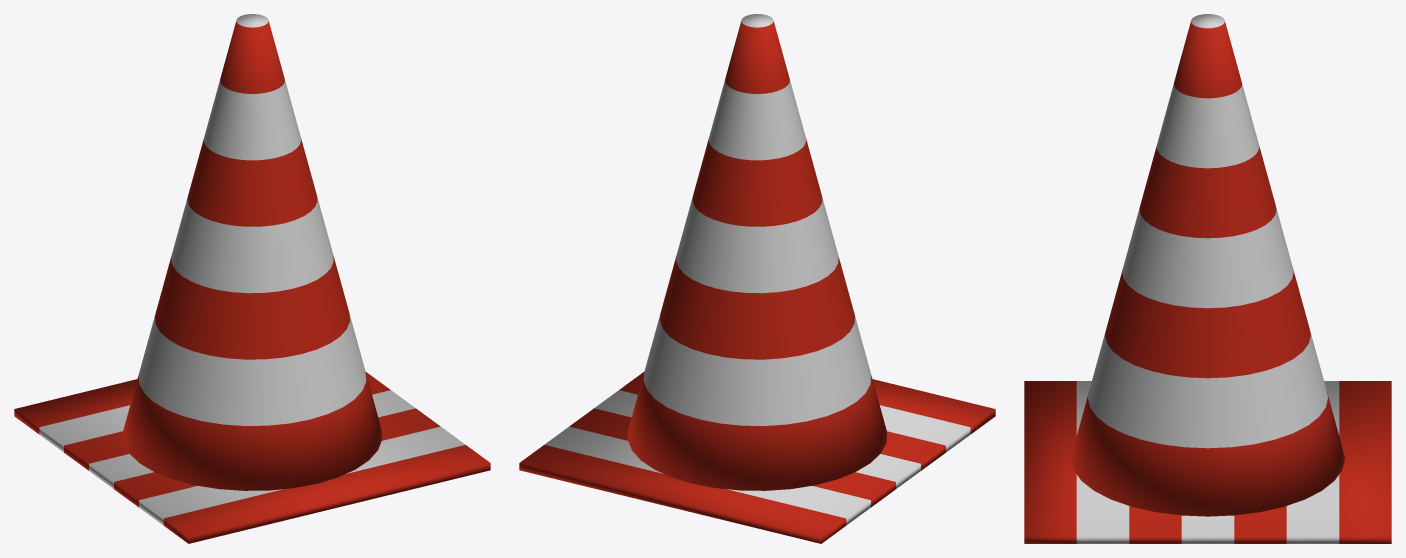
File: Cone vermelho 01 - 1.fbx
3 views of the same model, side by side, from view 1: azimuth 30°, elevation 25°; view 2: azimuth 150°, elevation 25°; view 3: azimuth 270°, elevation 25° (orthographic). The views are drawn at different scales.
Visible parts, largest first — view 1: Plano.214; view 2: Plano.214; view 3: Plano.214.
Boxes of the visible parts, x1,y1,x2,y2 form: Plano.214: (14,14,490,543); Plano.214: (519,14,995,543); Plano.214: (1024,14,1391,543).
Bounding box in the file's own units: 58.44 × 78.14 × 58.44.
